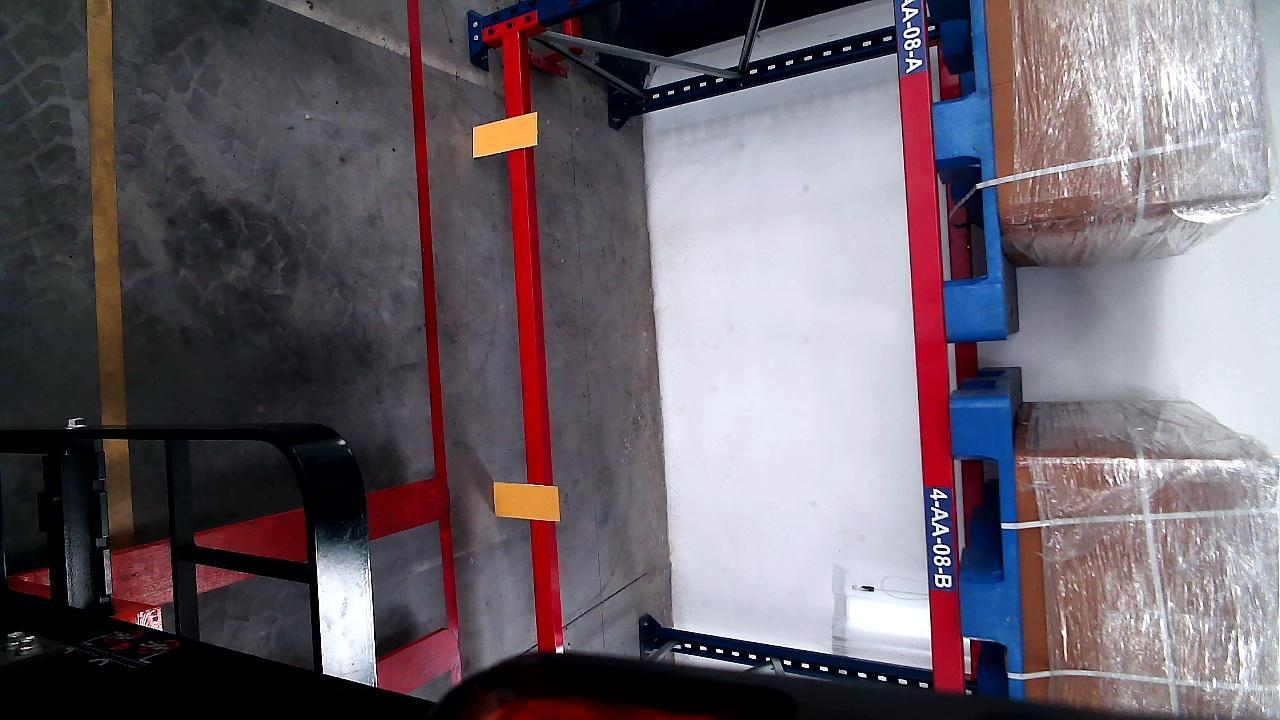yellow_line: (86, 0, 132, 531)
